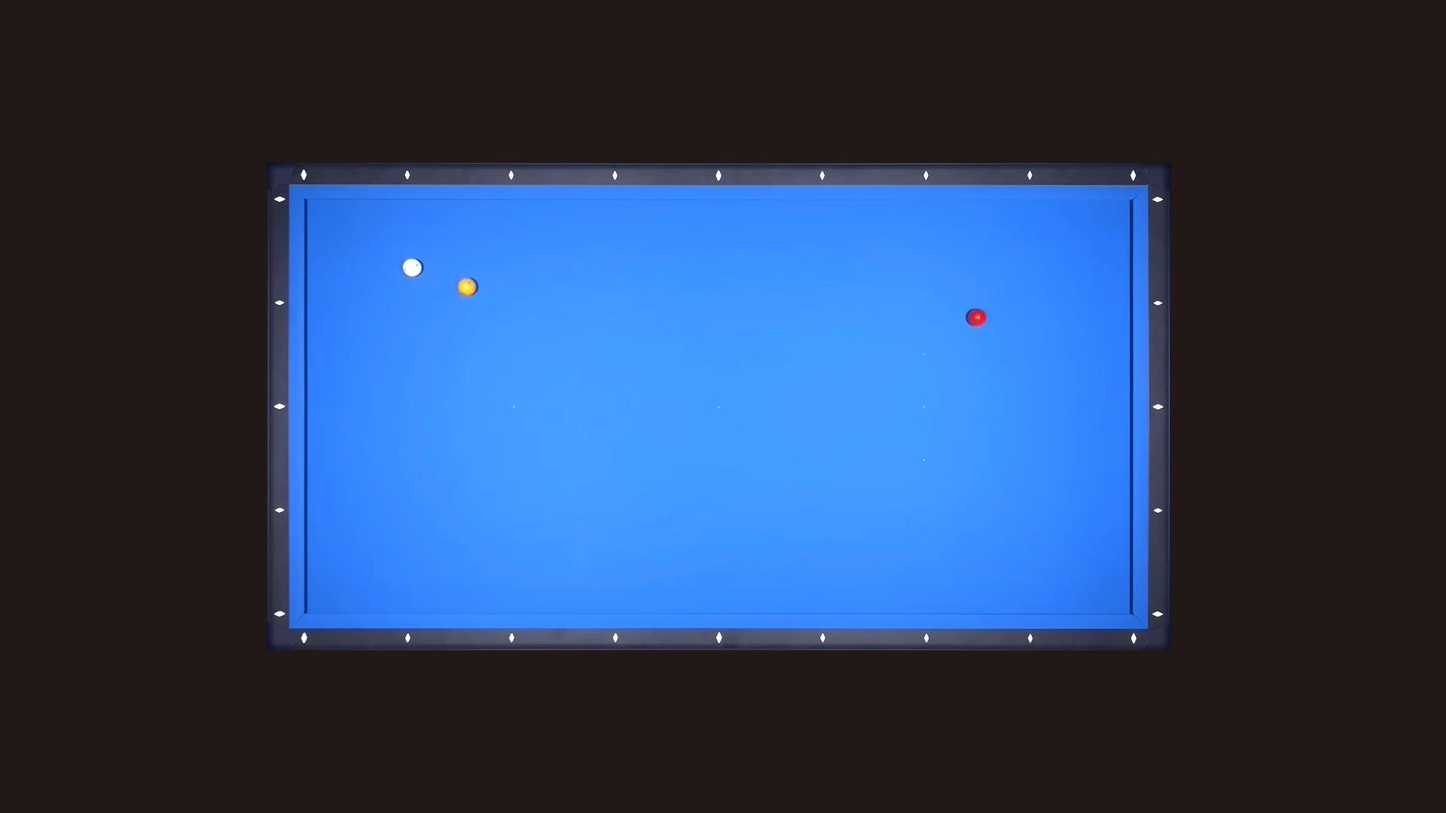Red: (964, 309, 989, 328)
White: (400, 259, 425, 279)
Yellow: (457, 277, 483, 298)
